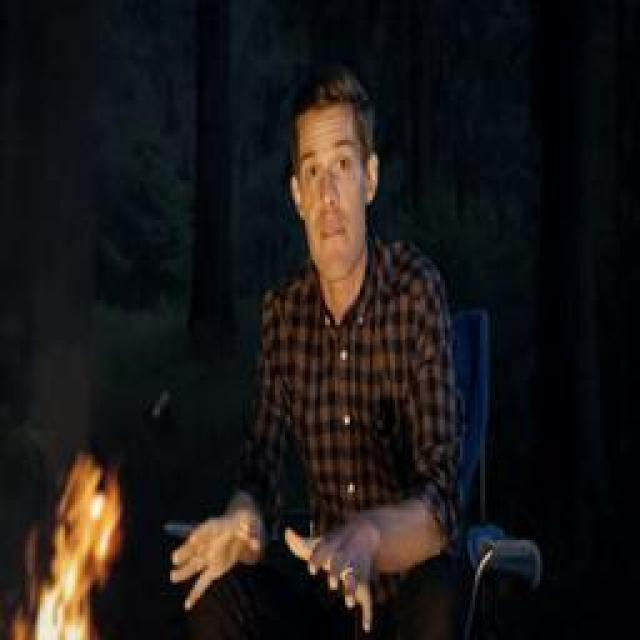Fire: (11, 457, 121, 640)
